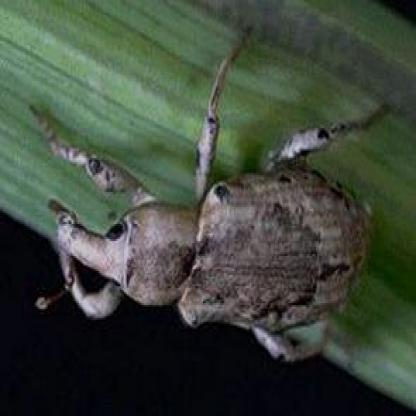rice-bug: (46, 31, 378, 359)
